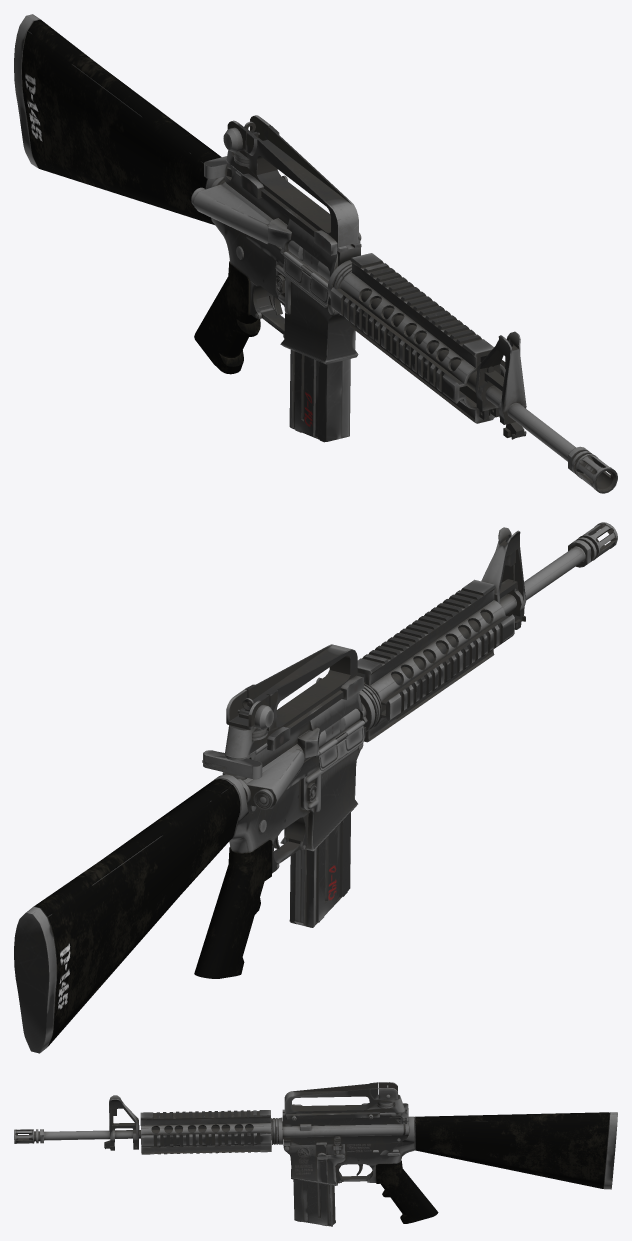
The model's file is m16_assault_rifle_fixed.glb.
The picture shows the model from 3 angles, top to bottom: view 1: azimuth 30°, elevation 25°; view 2: azimuth 150°, elevation 25°; view 3: azimuth 270°, elevation 25°; orthographic projection. The views are drawn at different scales.
Parts seen in each view (by area): view 1: BODY, RAIL, REAR SIGHT, MAGAZINE, PISTOL GRIP, BARREL, FRONT SIGHT, DUST COVER; view 2: BODY, RAIL, REAR SIGHT, PISTOL GRIP, MAGAZINE, BARREL, FRONT SIGHT, CHANRIGN HANDLE, DUST COVER; view 3: BODY, RAIL, REAR SIGHT, PISTOL GRIP, MAGAZINE, BARREL, FRONT SIGHT.
Boxes of the visible parts, <box> form: BODY: <box>14,14,361,364</box>; RAIL: <box>330,253,505,423</box>; REAR SIGHT: <box>223,115,361,255</box>; MAGAZINE: <box>289,350,350,442</box>; PISTOL GRIP: <box>194,261,260,374</box>; BARREL: <box>361,290,617,493</box>; FRONT SIGHT: <box>475,331,526,439</box>; DUST COVER: <box>283,251,328,304</box>; BODY: <box>14,683,381,1053</box>; RAIL: <box>357,579,514,742</box>; REAR SIGHT: <box>225,644,363,758</box>; PISTOL GRIP: <box>194,840,272,978</box>; MAGAZINE: <box>289,812,350,927</box>; BARREL: <box>391,522,617,684</box>; FRONT SIGHT: <box>481,527,525,629</box>; CHANRIGN HANDLE: <box>202,750,262,779</box>; DUST COVER: <box>318,720,364,770</box>; BODY: <box>271,1108,617,1189</box>; RAIL: <box>140,1110,271,1154</box>; REAR SIGHT: <box>284,1082,404,1120</box>; PISTOL GRIP: <box>376,1160,438,1223</box>; MAGAZINE: <box>293,1179,335,1226</box>; BARREL: <box>14,1127,271,1143</box>; FRONT SIGHT: <box>104,1095,139,1150</box>.
Bounding box in the file's own units: 6.42 × 22.19 × 87.51.
Materials: 1 (1 with a texture image).
